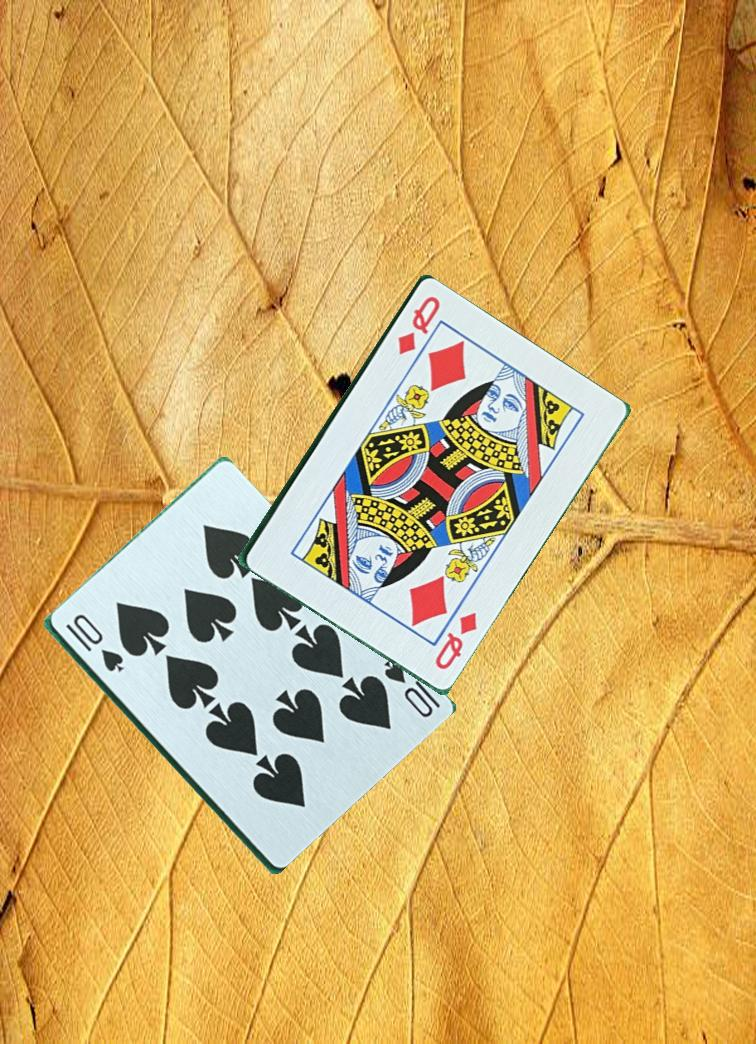qd: (394, 291, 445, 358), (431, 607, 480, 673)
ts: (61, 611, 127, 675), (379, 657, 443, 721)
